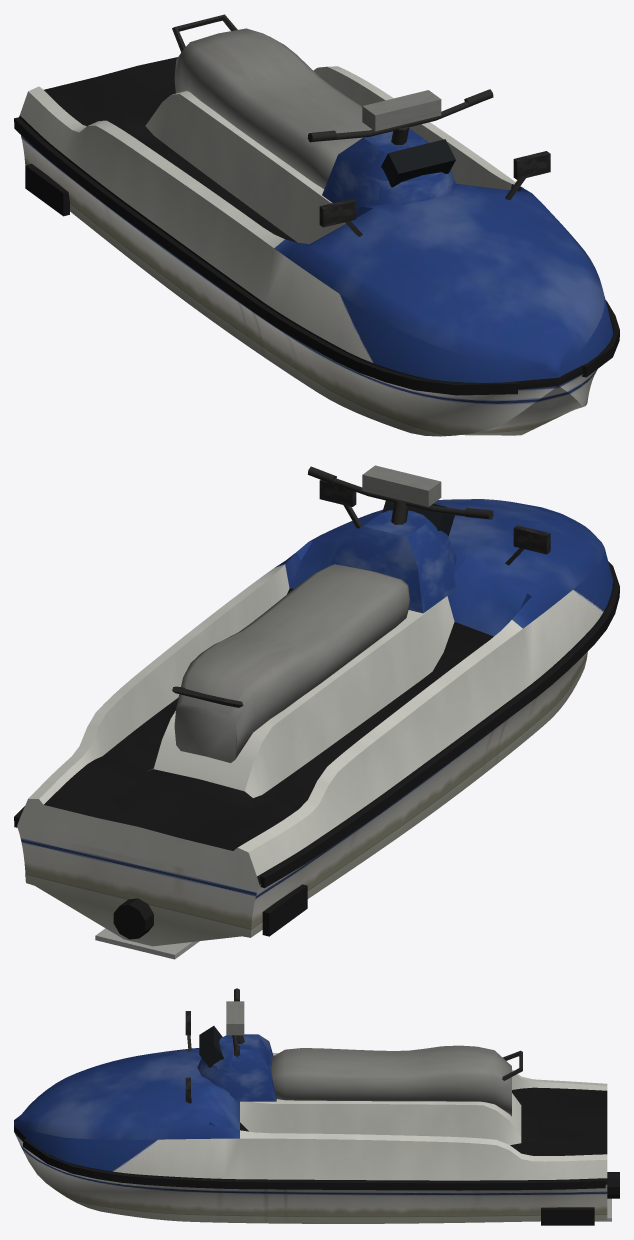
Rendered from jetSki-a-lod0.glb.
3 renders of one model, top to bottom at view 1: azimuth 30°, elevation 25°; view 2: azimuth 150°, elevation 25°; view 3: azimuth 270°, elevation 25°, orthographic. The views are drawn at different scales.
Visible parts, largest first — view 1: Hull, Superstructure; view 2: Hull, Superstructure; view 3: Hull, Superstructure.
Part boxes in pixels (x1,y1,x2,y2): Hull: [14, 57, 619, 436]; Superstructure: [172, 14, 550, 236]; Hull: [14, 499, 619, 959]; Superstructure: [172, 465, 550, 762]; Hull: [14, 1048, 619, 1225]; Superstructure: [185, 988, 522, 1116].
Size of the model in its own units: 1.27 by 1.2 by 3.37.
Materials: 1 (1 with a texture image).
